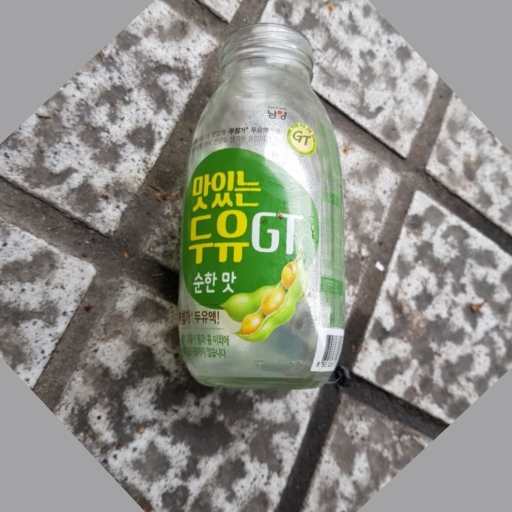Glass_4: (176, 21, 346, 391)
